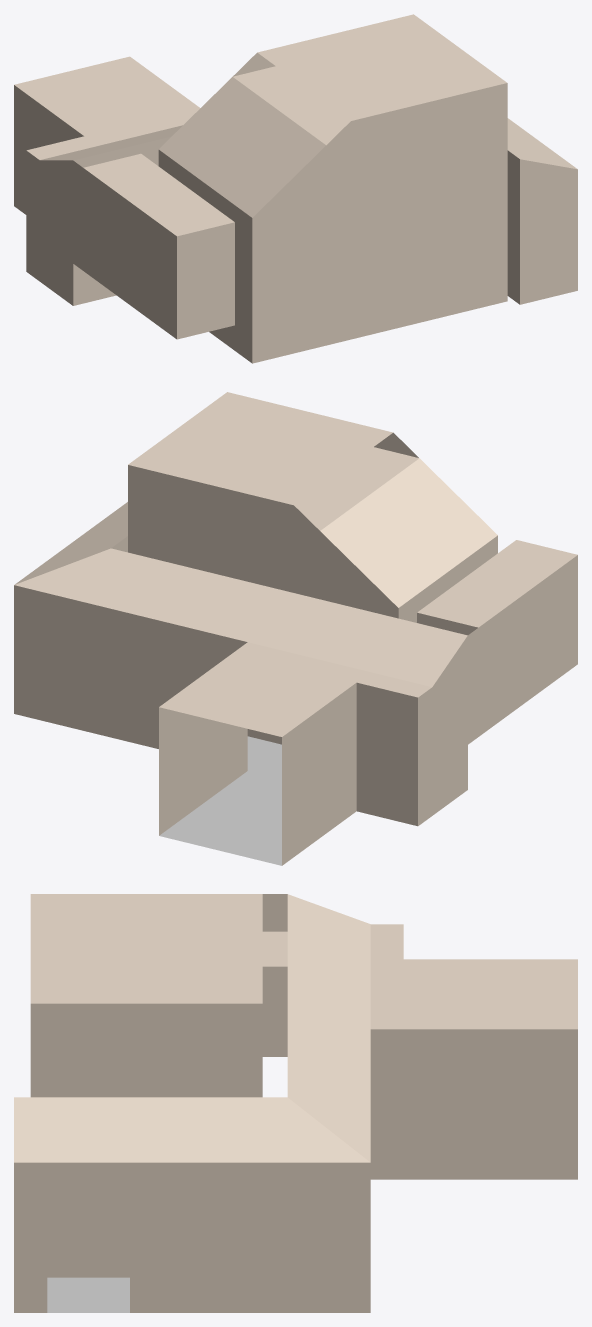
Rendered from L28-Laboratory.obj.
The picture shows the model from 3 angles, top to bottom: view 1: azimuth 30°, elevation 25°; view 2: azimuth 150°, elevation 25°; view 3: azimuth 270°, elevation 25°; orthographic projection. The views are drawn at different scales.
Parts seen in each view (by area): view 1: L28-Laboratory; view 2: L28-Laboratory; view 3: L28-Laboratory.
Part boxes in pixels (x1,y1,x2,y2): L28-Laboratory: (14, 14, 577, 363); L28-Laboratory: (14, 392, 577, 865); L28-Laboratory: (14, 894, 577, 1312).
Size of the model in its own units: 17 by 9 by 17.
